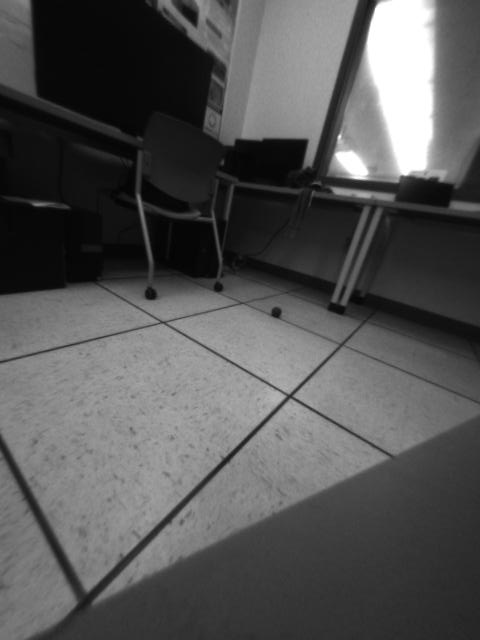dogtoy: (267, 301, 288, 322)
